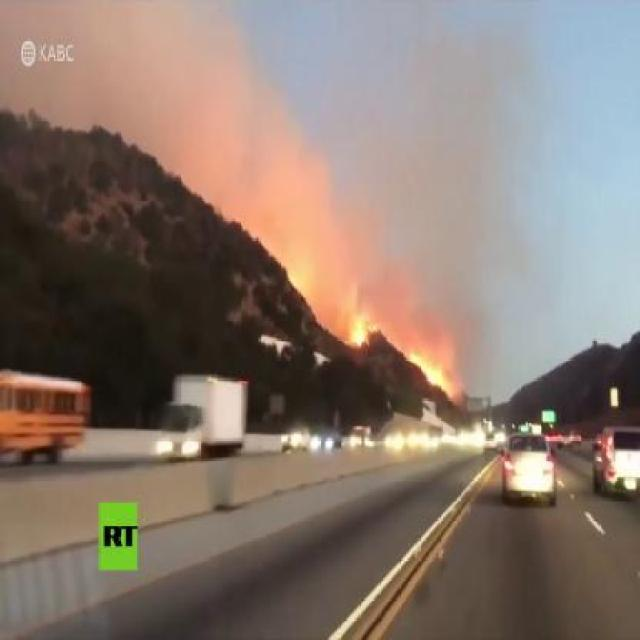Fire: (407, 354, 455, 400), (349, 306, 380, 352)
